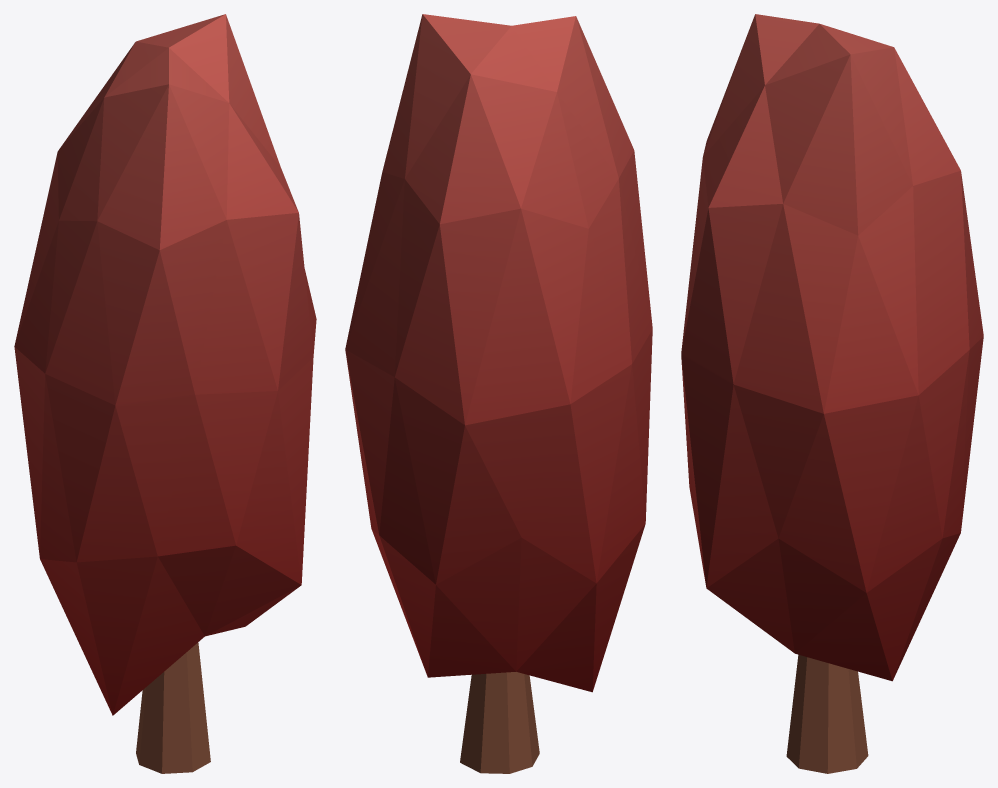
The model's file is Tree_05_gradient_red_vc.fbx.
3 views of the same model, side by side, from view 1: azimuth 30°, elevation 25°; view 2: azimuth 150°, elevation 25°; view 3: azimuth 270°, elevation 25° (orthographic). The views are drawn at different scales.
Parts seen in each view (by area): view 1: Tree_05_gradient_red_vc; view 2: Tree_05_gradient_red_vc; view 3: Tree_05_gradient_red_vc.
Part boxes in pixels (x1,y1,x2,y2): Tree_05_gradient_red_vc: (14,14,316,773); Tree_05_gradient_red_vc: (345,14,652,773); Tree_05_gradient_red_vc: (681,14,983,773).
Bounding box in the file's own units: 104 × 266 × 99.25.
